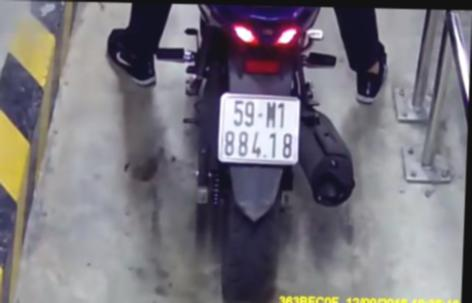License_Plate: (209, 87, 311, 172)
